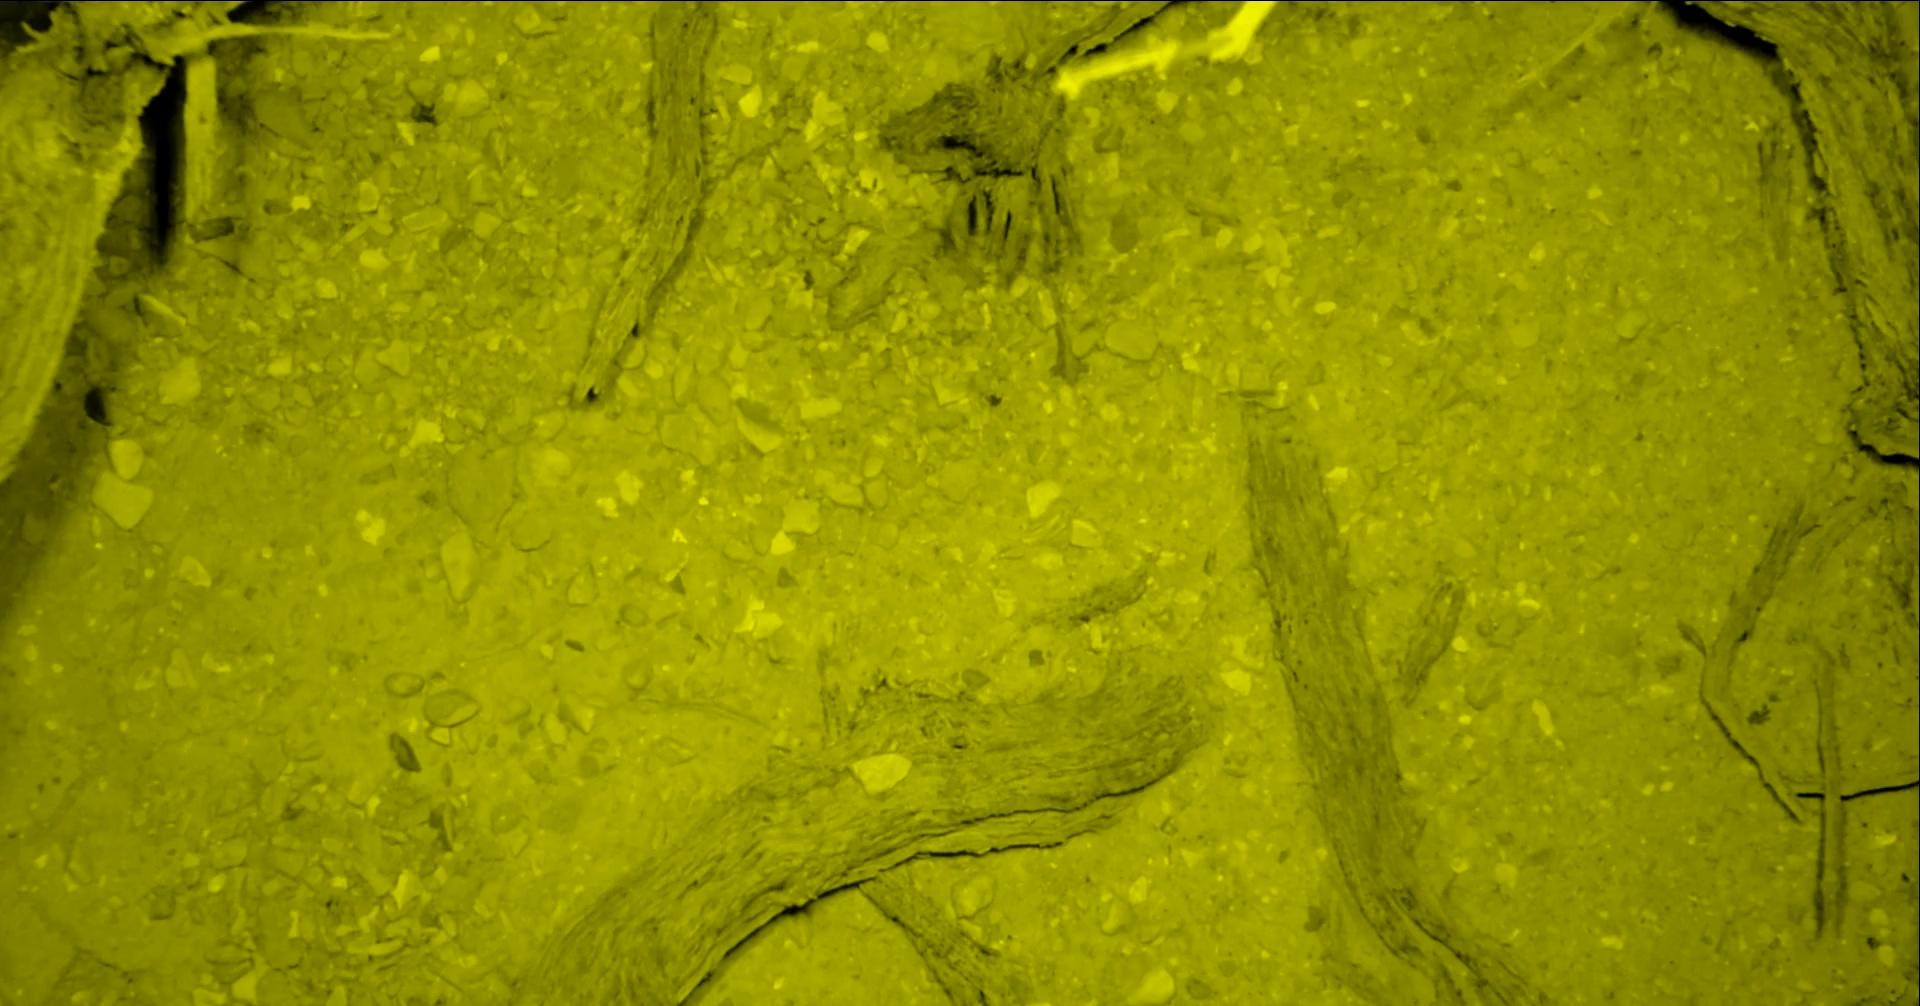ant: (1848, 0, 1920, 10), (1919, 873, 1920, 964), (283, 0, 337, 1)
